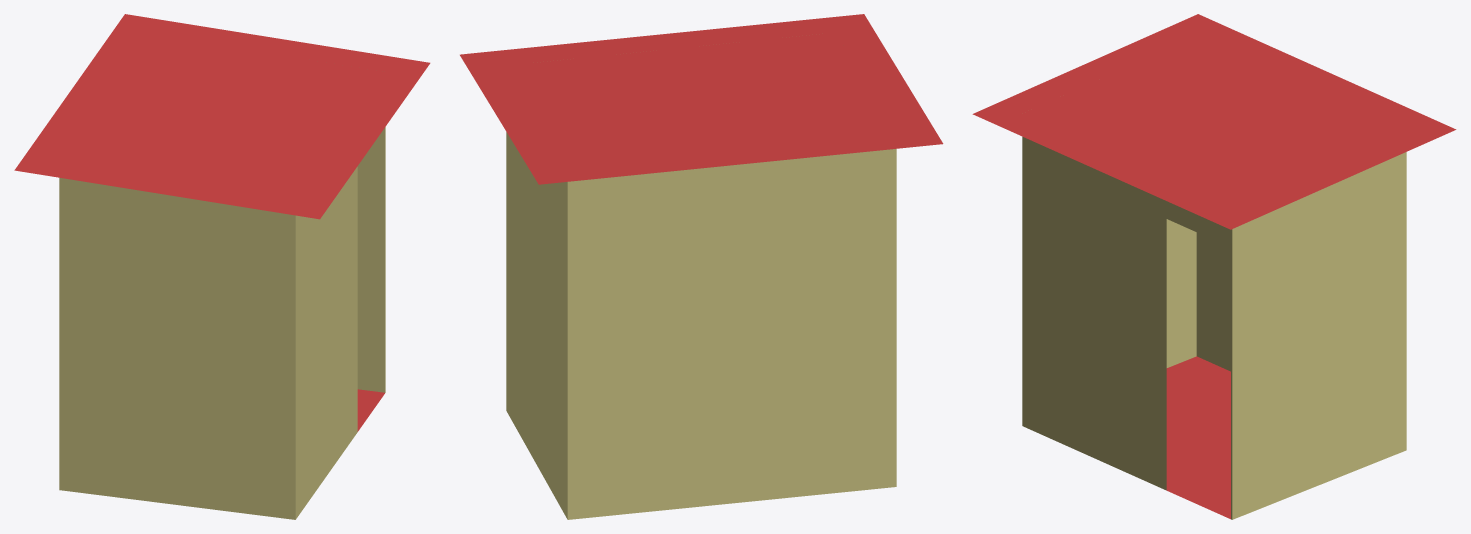
The picture shows the model from 3 angles, left to right: view 1: azimuth 30°, elevation 25°; view 2: azimuth 150°, elevation 25°; view 3: azimuth 270°, elevation 25°; orthographic projection. The views are drawn at different scales.
Parts seen in each view (by area): view 1: group_5, group_3, group_4, group_6; view 2: group_5, group_3, group_4; view 3: group_5, group_3, group_4, group_6.
Part boxes in pixels (<box>): group_5: <box>59,127,385,519</box>; group_3: <box>14,14,427,198</box>; group_4: <box>16,53,430,219</box>; group_6: <box>357,389,384,431</box>; group_5: <box>506,132,896,519</box>; group_3: <box>460,32,942,184</box>; group_4: <box>460,14,942,143</box>; group_5: <box>1022,136,1406,519</box>; group_3: <box>1022,14,1456,229</box>; group_4: <box>972,14,1318,229</box>; group_6: <box>1166,356,1230,519</box>.
Bounding box in the file's own units: 10.35 × 10.29 × 7.54.
